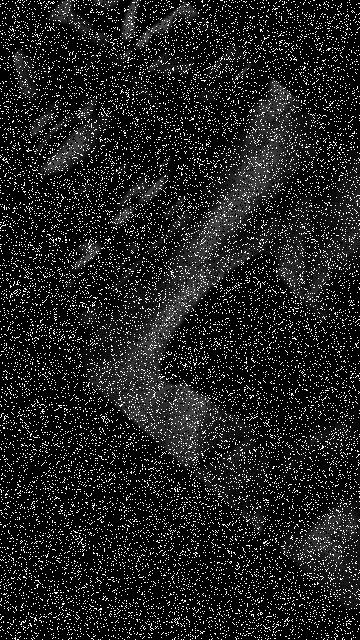pot: (164, 257, 338, 431)
